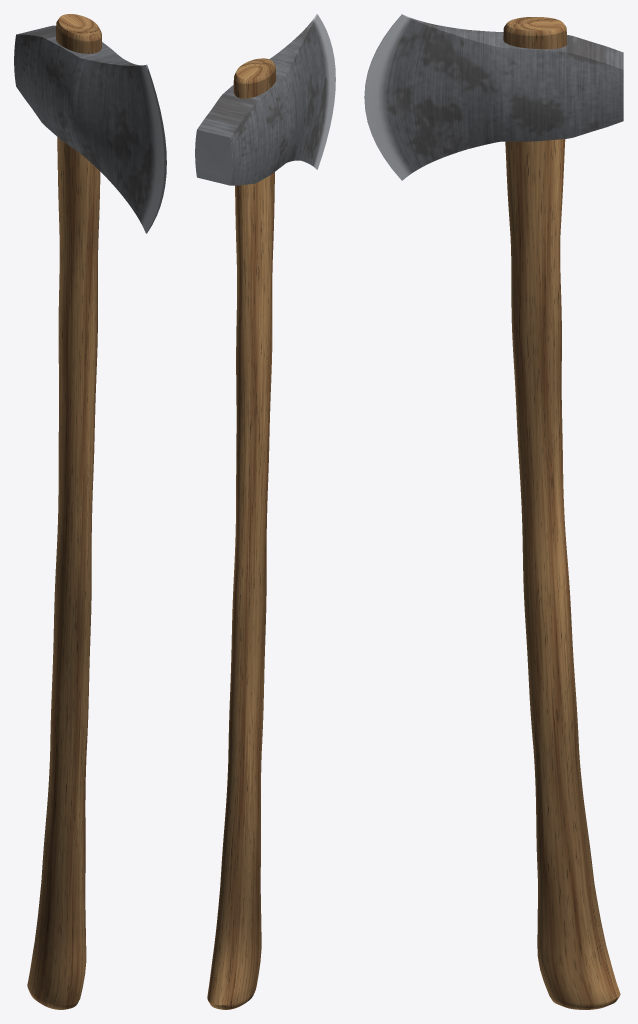
File: FellingAxe.obj
The picture shows the model from 3 angles, left to right: view 1: azimuth 30°, elevation 25°; view 2: azimuth 150°, elevation 25°; view 3: azimuth 270°, elevation 25°; orthographic projection. The views are drawn at different scales.
Parts seen in each view (by area): view 1: FellingAxe; view 2: FellingAxe; view 3: FellingAxe.
Boxes of the visible parts, bbox=[...] form: FellingAxe: bbox=[14, 14, 166, 1009]; FellingAxe: bbox=[195, 14, 335, 1009]; FellingAxe: bbox=[364, 14, 623, 1009].
Bounding box in the file's own units: 0.0484 × 0.9299 × 0.22.
2 materials, 2 textured.
